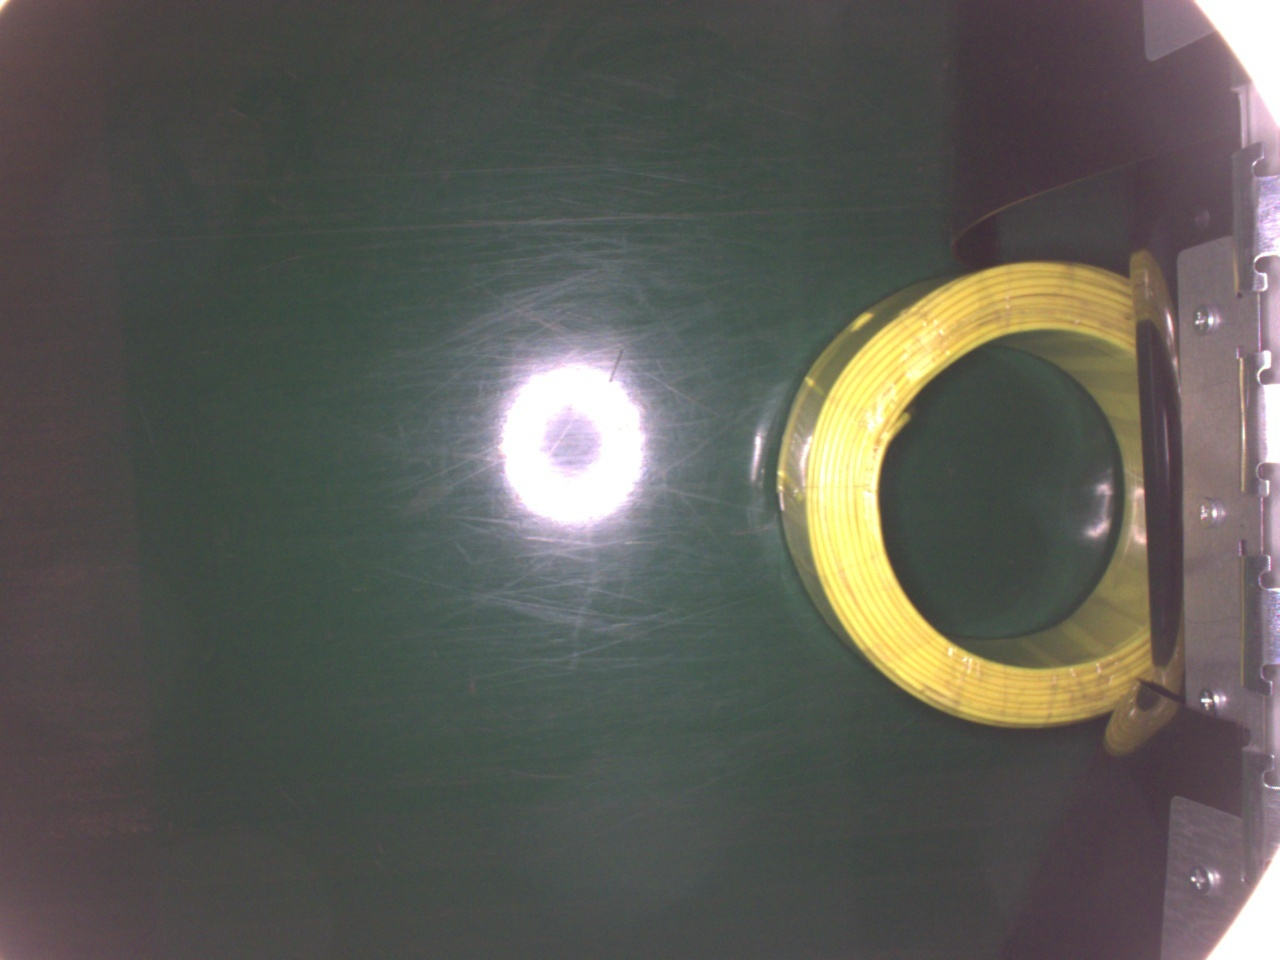yellow: (780, 263, 1155, 728)
